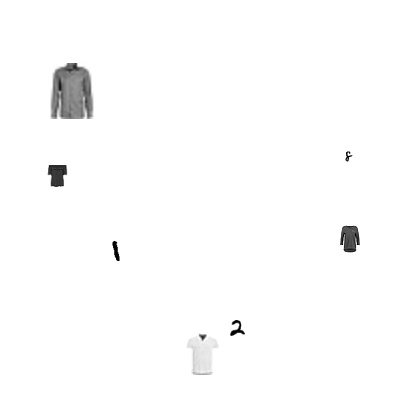3: (70, 328, 98, 356)
4: (71, 245, 93, 267)
7: (132, 125, 174, 167)
9: (365, 256, 407, 298)
Pullover: (269, 222, 311, 264)
Sandal: (212, 132, 268, 188), (115, 273, 129, 287)
Shirt: (143, 208, 165, 230)
